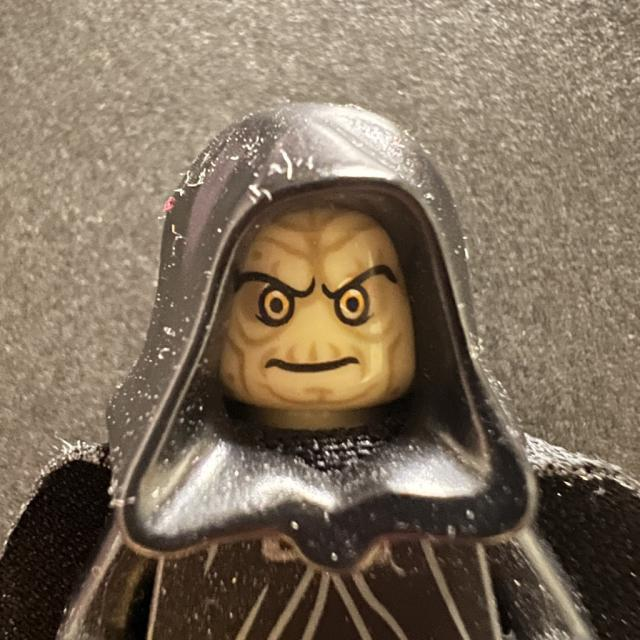alien: (128, 83, 524, 555)
